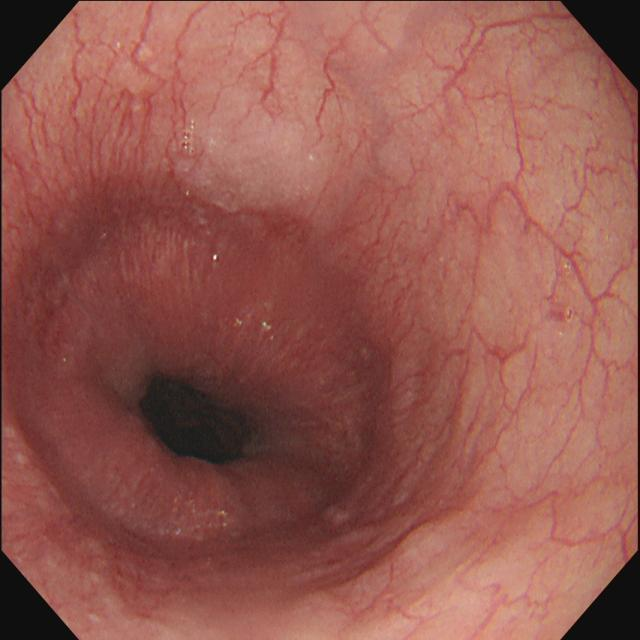E: (137, 376, 257, 465)
